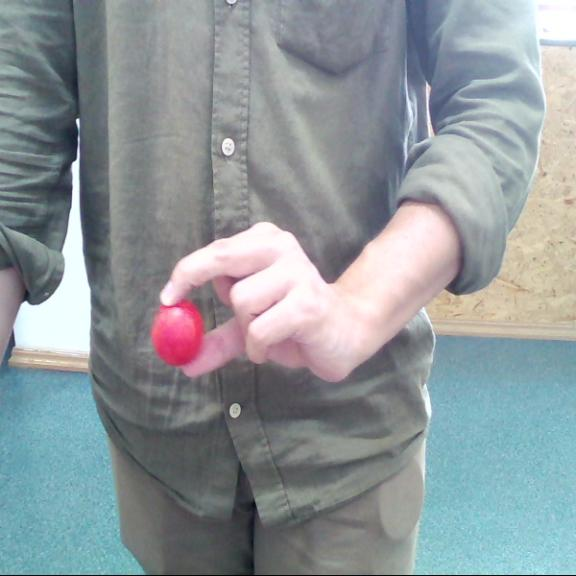ball: (152, 301, 205, 365)
